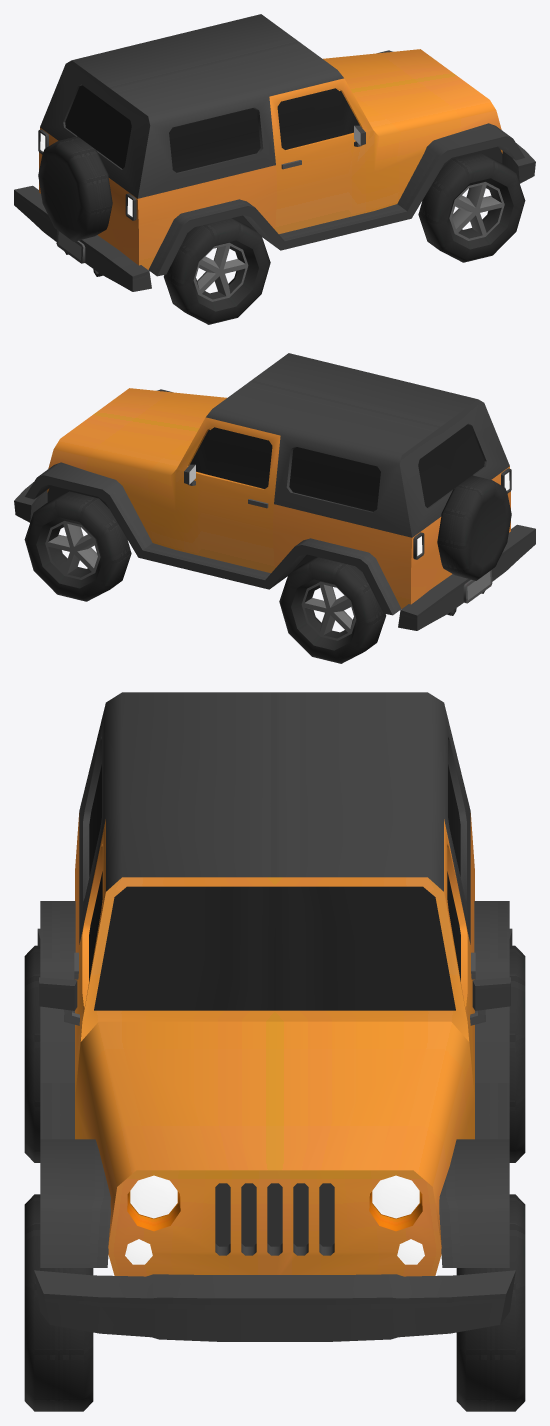
File: jeep.glb
The picture shows the model from 3 angles, top to bottom: view 1: azimuth 30°, elevation 25°; view 2: azimuth 150°, elevation 25°; view 3: azimuth 270°, elevation 25°; orthographic projection. The views are drawn at different scales.
Parts seen in each view (by area): view 1: jeep; view 2: jeep; view 3: jeep.
Boxes of the visible parts, <box> form: jeep: <box>14,14,535,324</box>; jeep: <box>14,353,535,663</box>; jeep: <box>24,692,525,1411</box>.
Bounding box in the file's own units: 4.45 × 2.03 × 2.28.
Materials: 4 (3 with a texture image).
